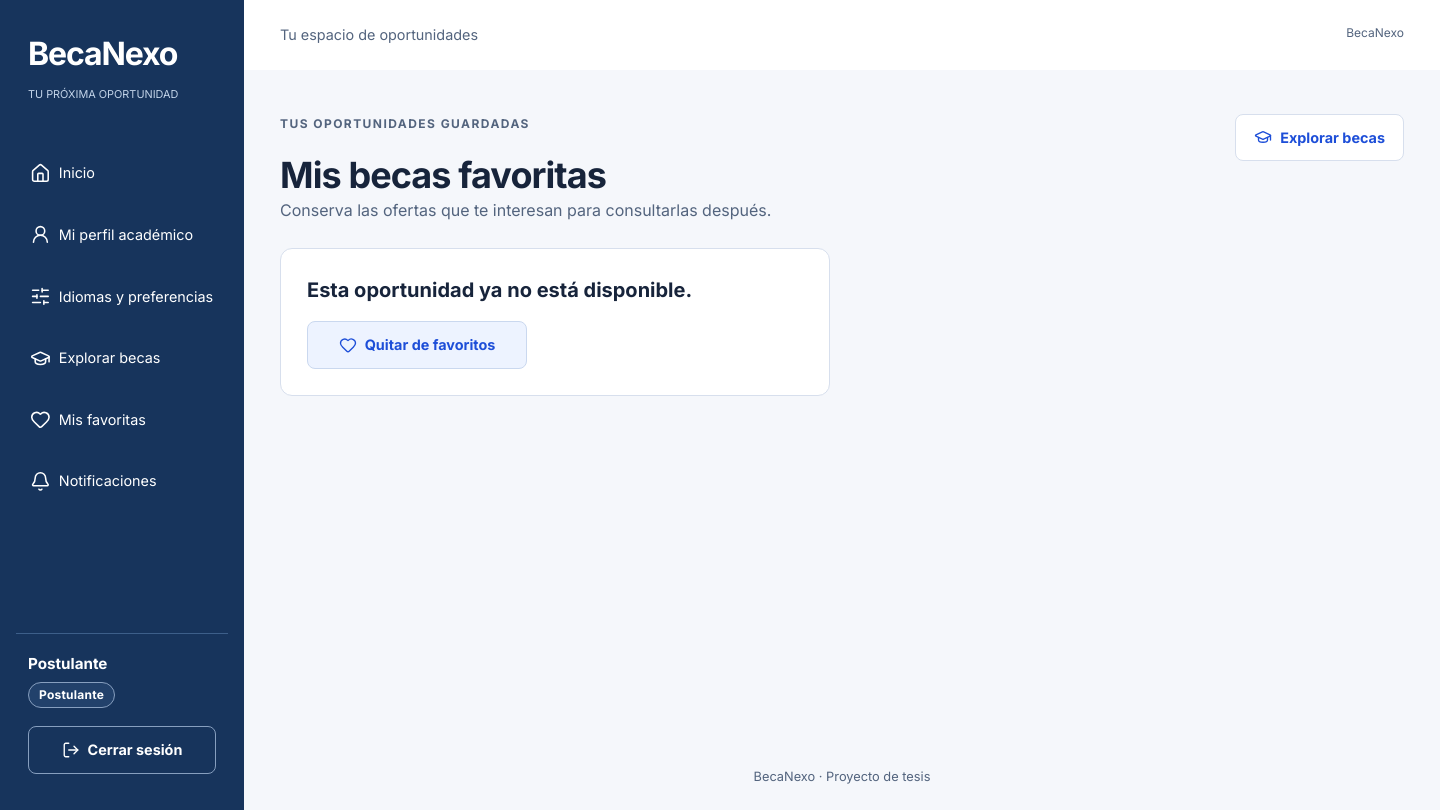
favoritos › restaura favoritos desde el servidor y permite quitar una oferta oculta
Expected: the heading "Esta oportunidad ya no está disponible." is shown, [307,275,692,305]
Step 1. Click the button "Quitar de favoritos" → (417, 345), box [307,321,527,369]
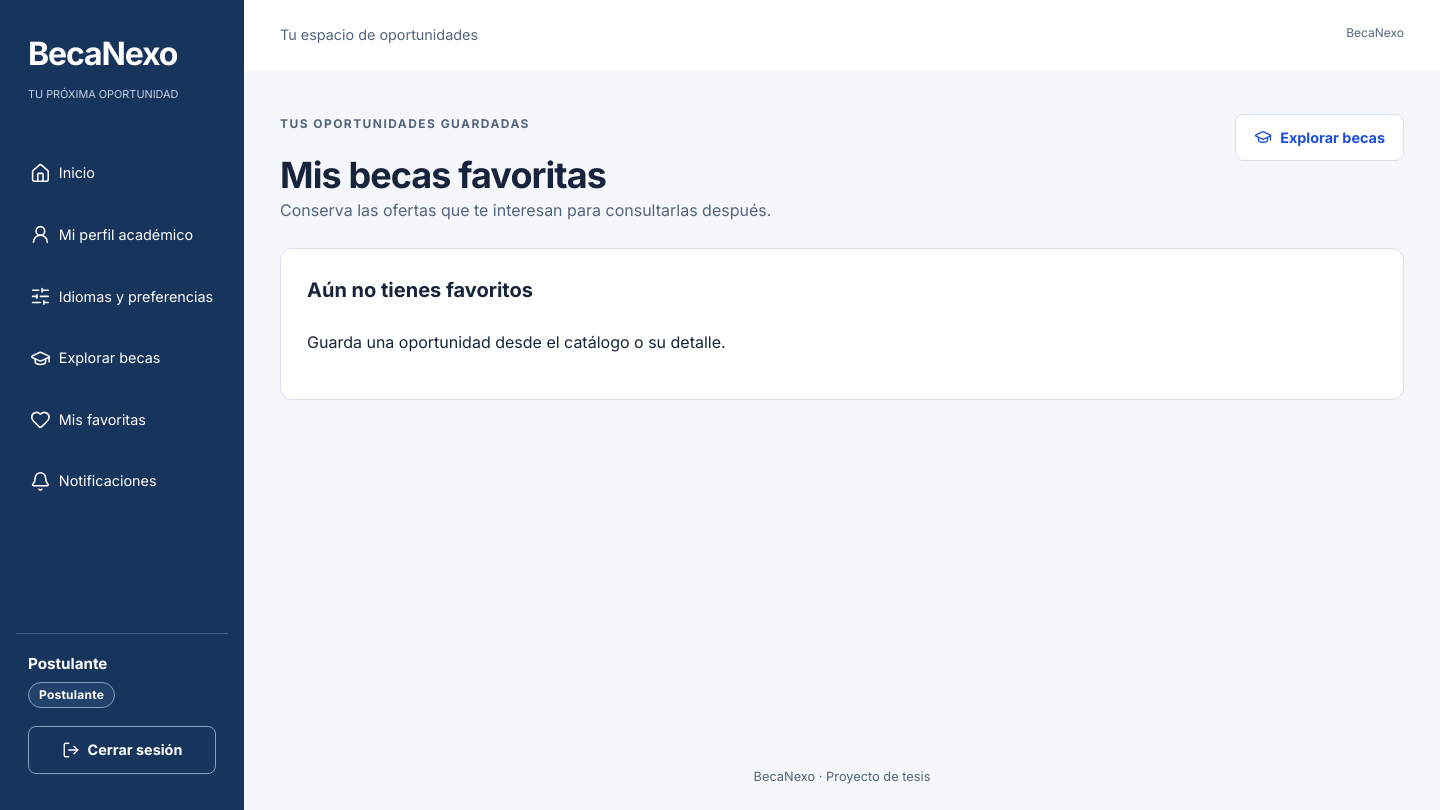
Expected: the heading "Aún no tienes favoritos" is shown, [307,278,533,302]
